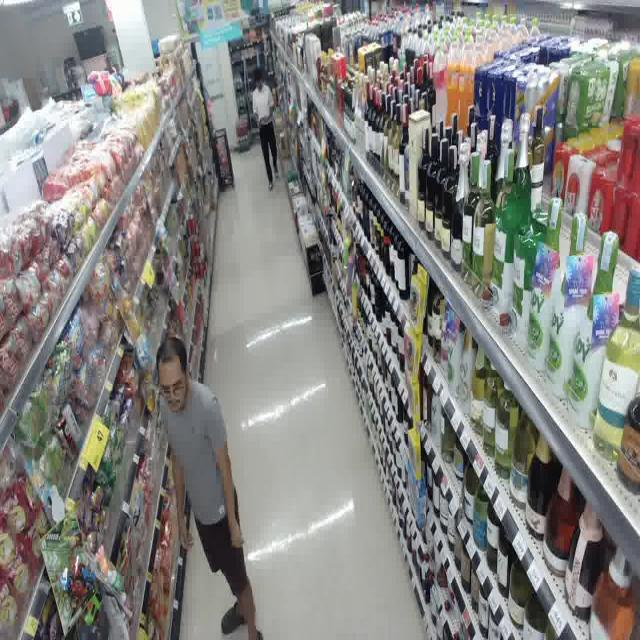Normal: (140, 316, 272, 640)
